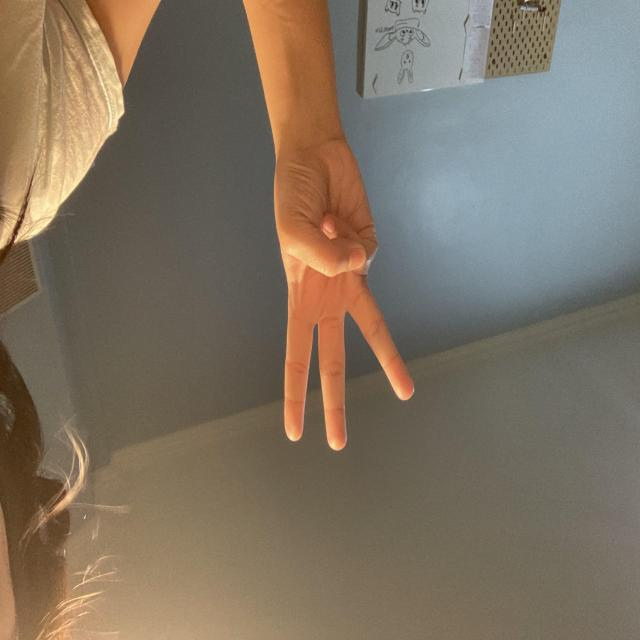W: (225, 188, 367, 501)
